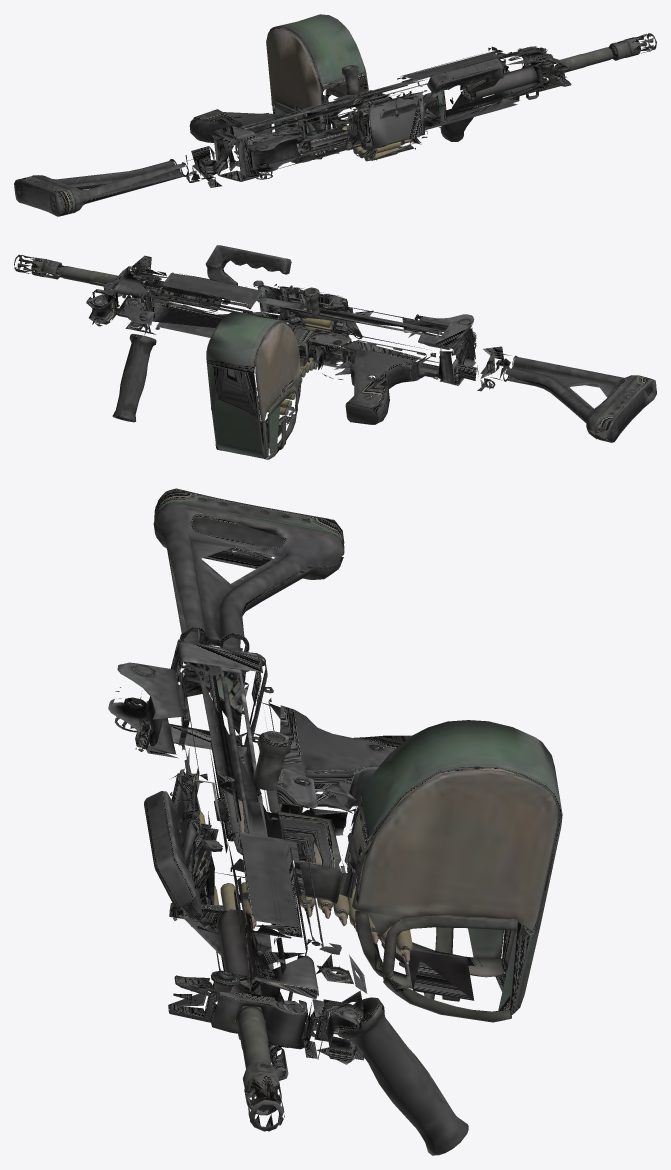
Rendered from w_negev.glb.
The picture shows the model from 3 angles, top to bottom: view 1: azimuth 30°, elevation 25°; view 2: azimuth 150°, elevation 25°; view 3: azimuth 270°, elevation 25°; orthographic projection. The views are drawn at different scales.
Parts seen in each view (by area): view 1: w_negev; view 2: w_negev; view 3: w_negev.
Part boxes in pixels (x1=…): w_negev: x1=14, y1=14, x2=656, y2=216; w_negev: x1=14, y1=245, x2=656, y2=459; w_negev: x1=108, y1=488, x2=562, y2=1155.
Bounding box in the file's own units: 1.36 × 0.2987 × 0.4365.
1 material, 1 textured.
